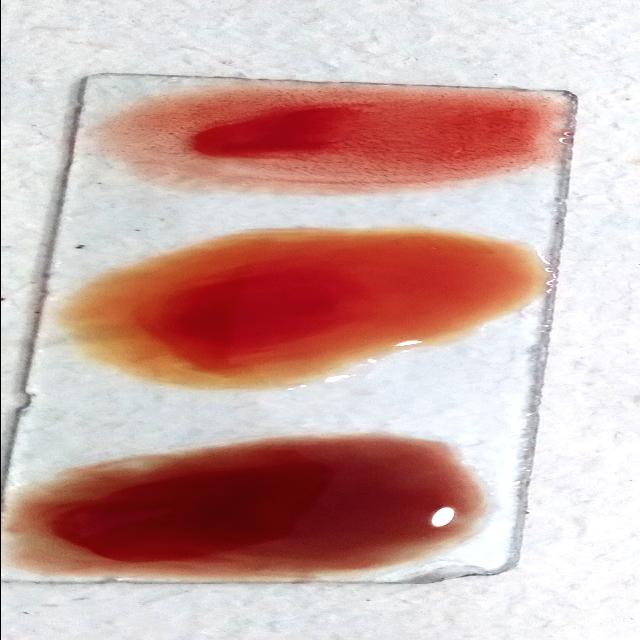D: (115, 82, 550, 182)
